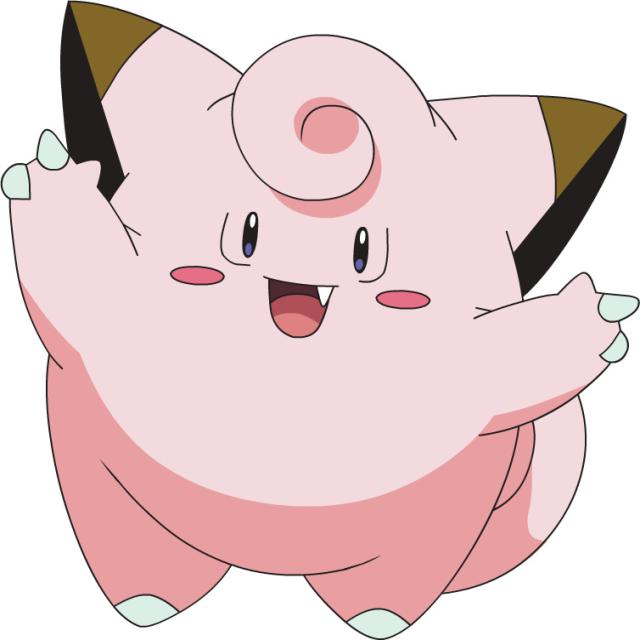Clefairy: (8, 2, 627, 625)
